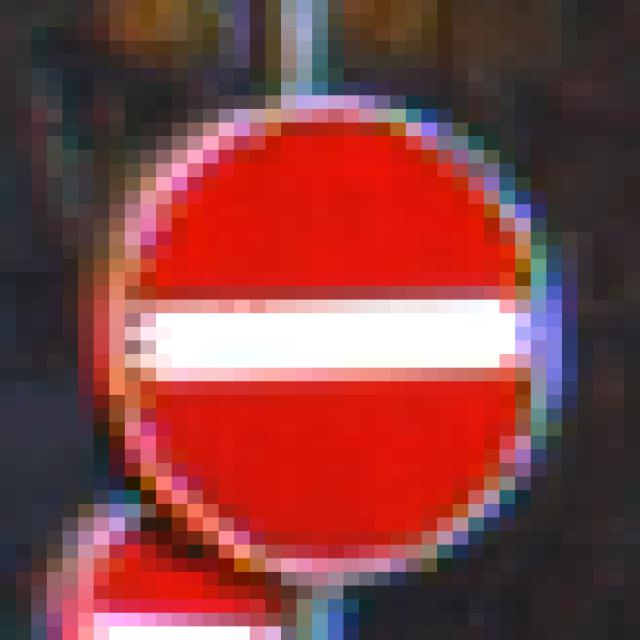No Entry: (95, 83, 563, 573)
